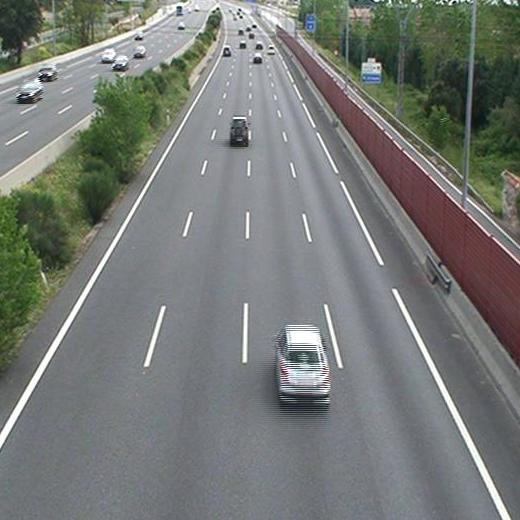car: (277, 327, 329, 401), (230, 118, 248, 141), (222, 48, 232, 56), (255, 41, 265, 49), (267, 45, 274, 55), (253, 54, 261, 62), (240, 42, 247, 48)
